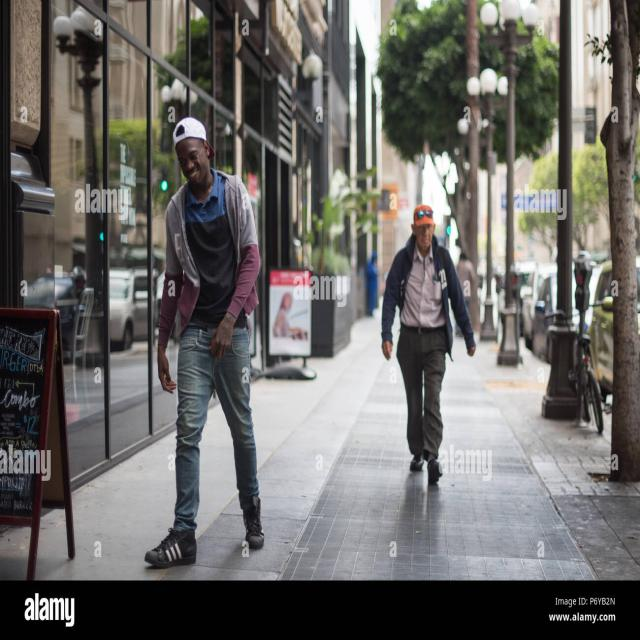nohelmet: (167, 110, 212, 190), (412, 203, 438, 251)
